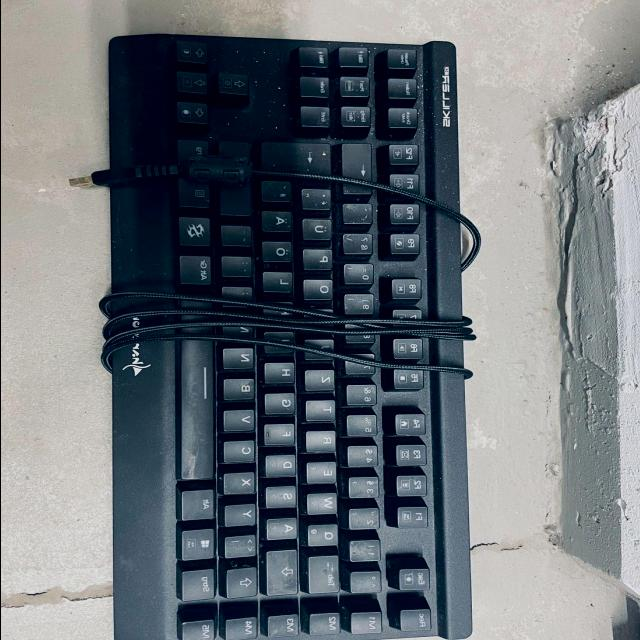0: (345, 266, 377, 288)
1: (351, 541, 384, 564)
2: (350, 509, 383, 532)
3: (350, 477, 383, 500)
4: (348, 447, 381, 469)
5: (348, 416, 380, 439)
6: (347, 385, 379, 409)
7: (346, 354, 378, 377)
8: (344, 323, 376, 346)
9: (345, 295, 377, 317)
a: (269, 519, 301, 543)
accent: (344, 205, 376, 227)
ae: (263, 213, 296, 235)
alt-left: (182, 490, 218, 524)
altgr-right: (180, 256, 215, 288)
b: (225, 379, 259, 403)
c: (225, 442, 260, 466)
caret: (352, 572, 384, 595)
comma: (224, 287, 257, 307)
d: (267, 456, 300, 480)
del: (343, 145, 375, 184), (343, 183, 375, 197)
e: (308, 464, 340, 487)
enter: (260, 144, 336, 176)
f: (266, 425, 299, 447)
g: (266, 394, 298, 417)
h: (266, 364, 298, 386)
hash: (263, 183, 295, 205)
j: (264, 332, 298, 354)
k: (263, 302, 296, 324)
keyboard: (159, 36, 466, 640)
l: (265, 273, 297, 295)
less: (226, 537, 260, 561)
m: (223, 317, 257, 343)
minus: (222, 228, 255, 250)
n: (222, 346, 258, 372)
o: (305, 280, 337, 303)
oe: (263, 243, 295, 265)
p: (305, 251, 337, 273)
plus: (303, 191, 335, 213)
point: (224, 257, 256, 279)
q: (309, 526, 341, 550)
r: (307, 431, 339, 455)
s: (268, 488, 300, 511)
shift-left: (228, 569, 261, 601)
shift-lock: (267, 550, 301, 598)
shift-right: (219, 140, 252, 218)
space: (180, 295, 218, 483)
ss: (344, 235, 376, 257)
strg-left: (183, 569, 219, 604)
strg-right: (178, 139, 211, 168)
t: (307, 402, 339, 424)
tab: (310, 556, 343, 596)
u: (303, 340, 335, 362)
ue: (304, 221, 336, 243)
v: (225, 410, 260, 434)
w: (308, 494, 340, 517)
x: (225, 473, 260, 497)
y: (226, 505, 260, 529)
z: (306, 371, 338, 393)
